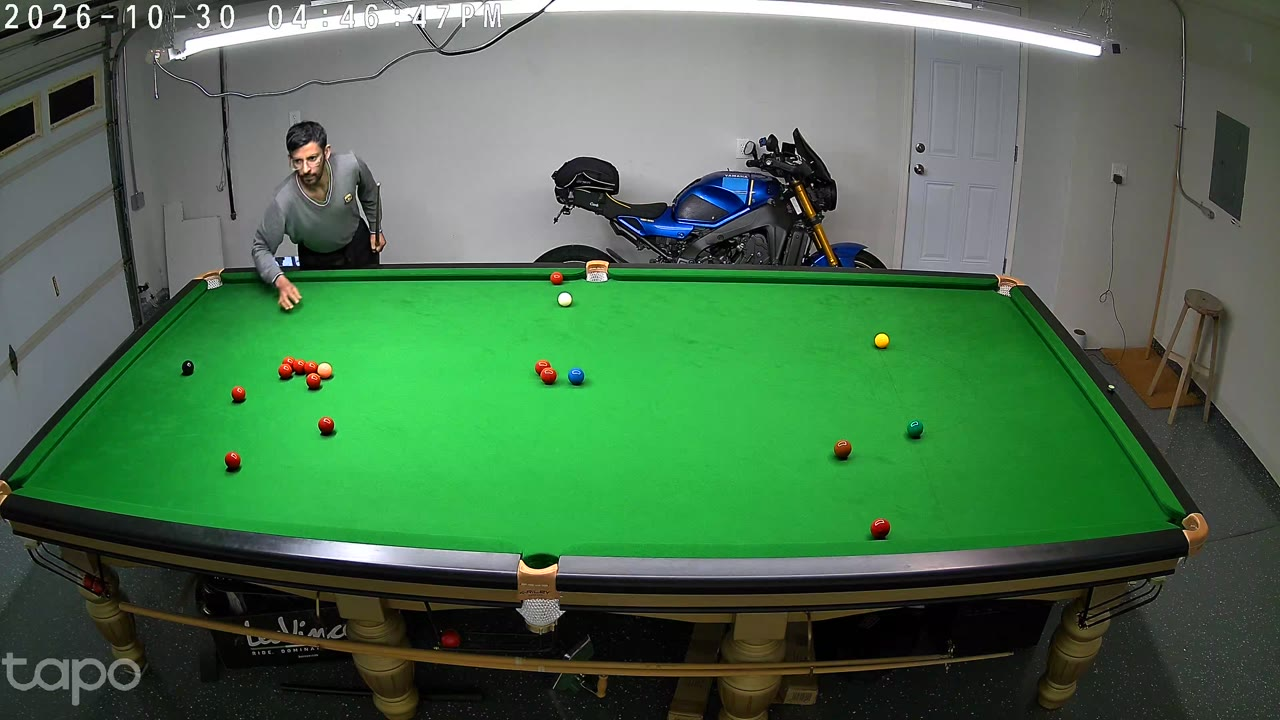black: (182, 358, 194, 378)
blue: (568, 366, 584, 388)
brown: (834, 438, 852, 464)
green: (907, 417, 923, 442)
pink: (318, 362, 331, 382)
red: (869, 515, 891, 546), (225, 449, 241, 474), (319, 415, 334, 437), (232, 385, 246, 405), (307, 371, 321, 391), (279, 362, 292, 382), (541, 360, 553, 381), (542, 366, 554, 386), (284, 356, 295, 377), (535, 360, 546, 379), (305, 360, 316, 379), (551, 271, 563, 288), (295, 359, 305, 377)
white: (558, 291, 572, 309)
yellow: (875, 332, 889, 351)
